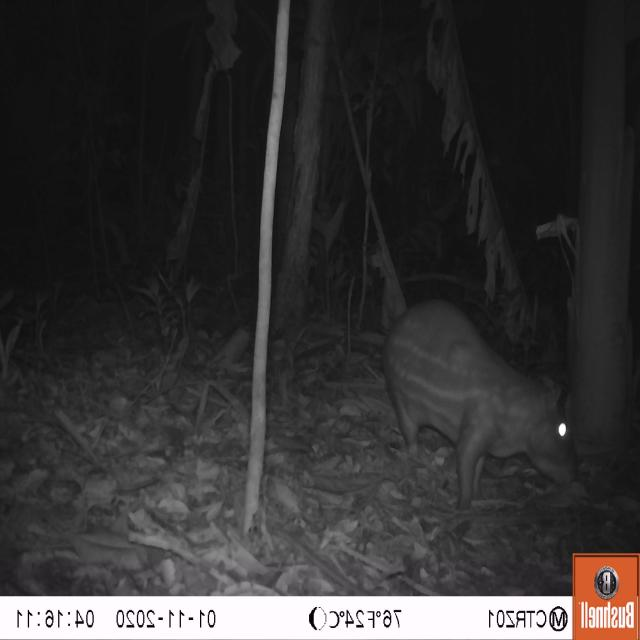Spotted Paca: (374, 288, 586, 524)
